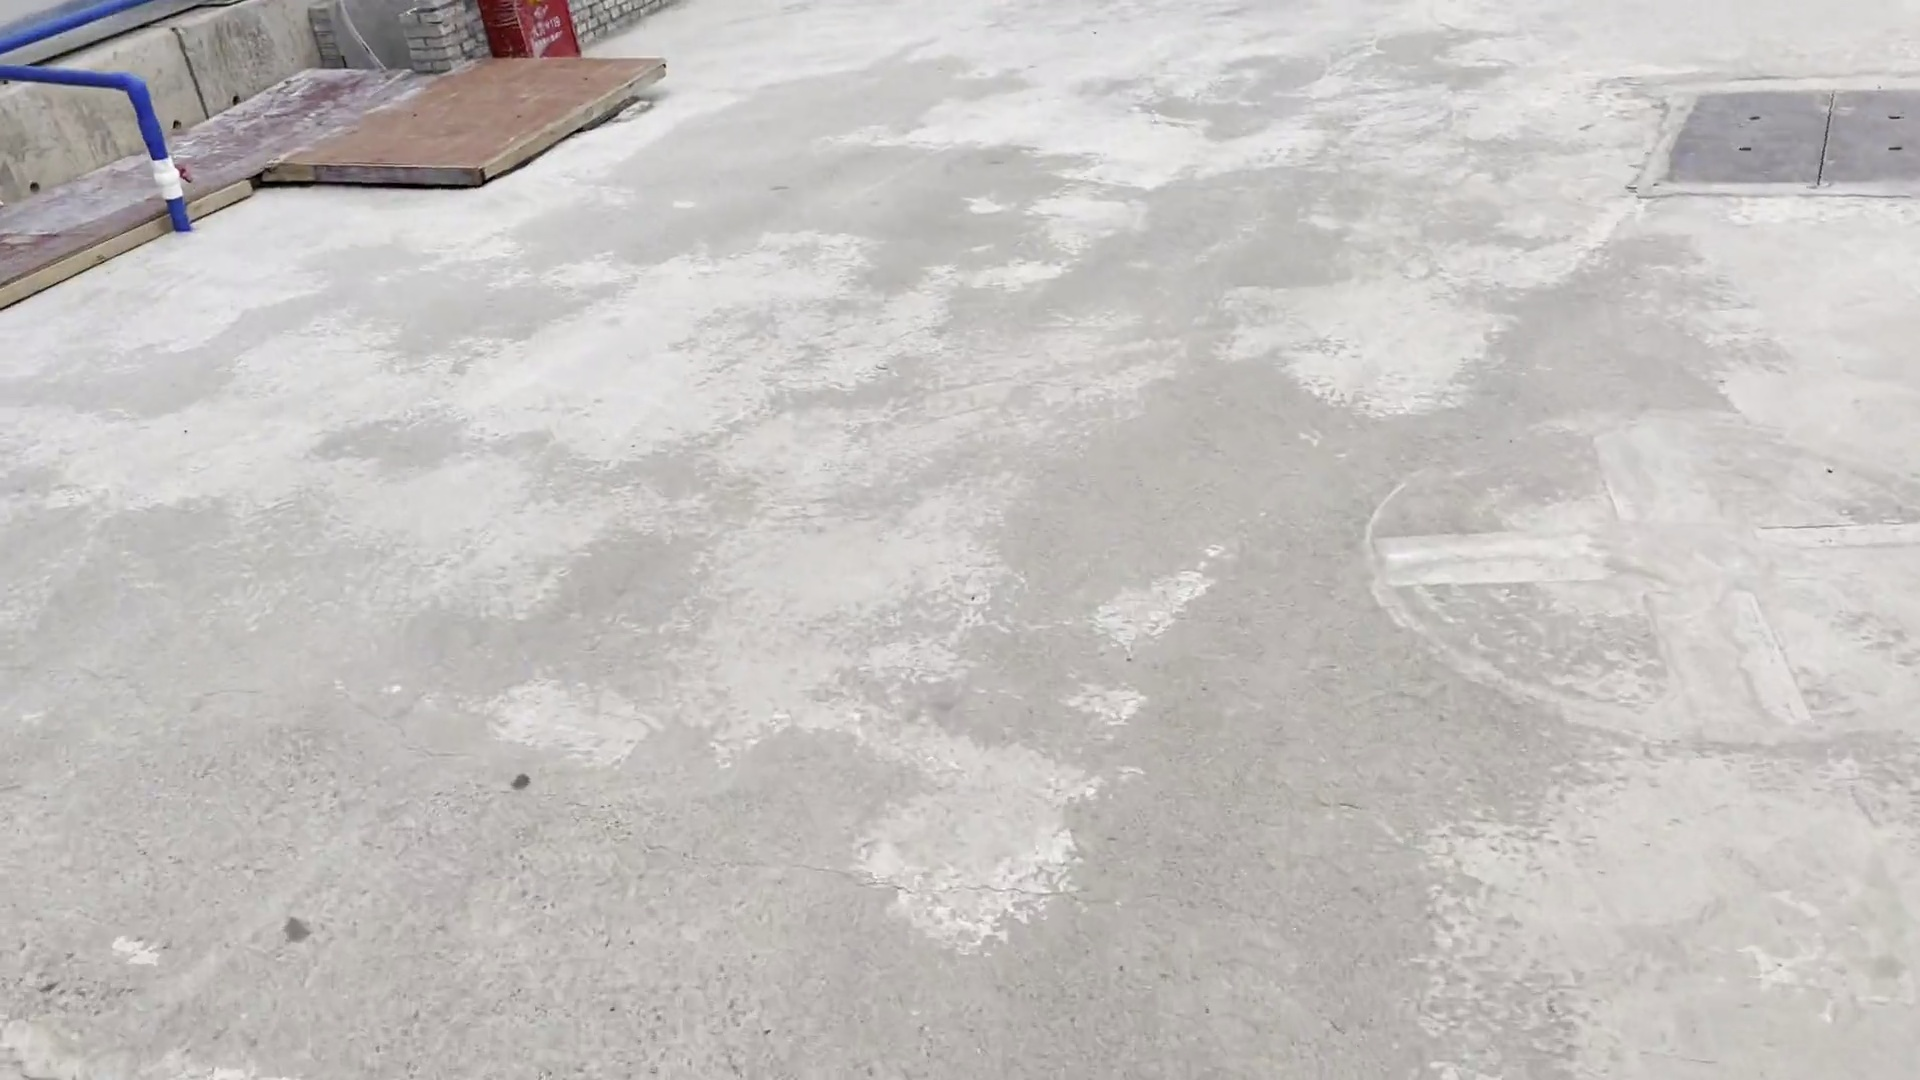board: (1, 66, 704, 320)
brick: (307, 3, 488, 92), (572, 1, 694, 47)
